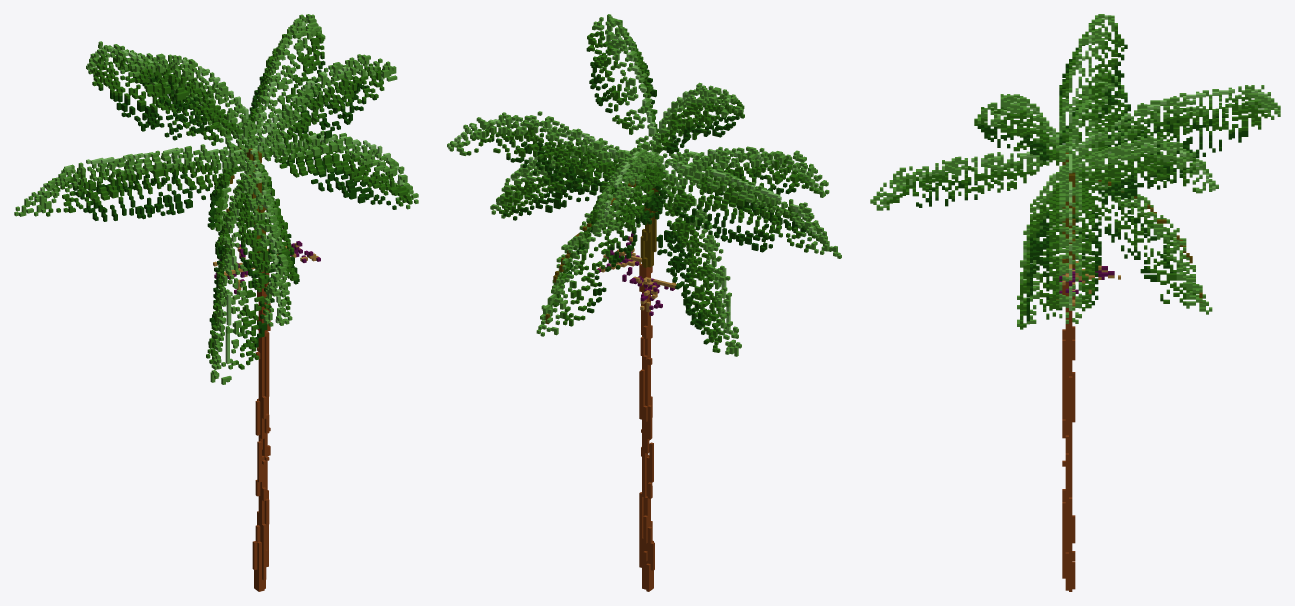
File: Acaizeiro1.fbx
3 views of the same model, side by side, from view 1: azimuth 30°, elevation 25°; view 2: azimuth 150°, elevation 25°; view 3: azimuth 270°, elevation 25° (orthographic). The views are drawn at different scales.
Parts seen in each view (by area): view 1: Vegetacao.003; view 2: Vegetacao.003; view 3: Vegetacao.003.
Boxes of the visible parts, <box> form: Vegetacao.003: <box>14,14,418,591</box>; Vegetacao.003: <box>447,14,841,591</box>; Vegetacao.003: <box>870,14,1280,591</box>.
Bounding box in the file's own units: 13100 × 17900 × 12600.
